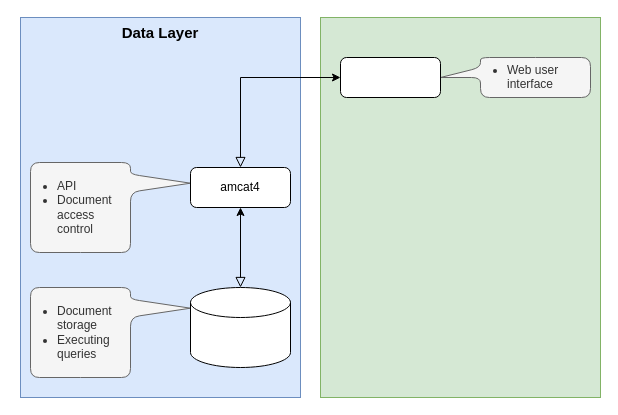
Image size: 618x415. Some labels were removed from this diagram. Here are the shapes that lost their labels. From the top down, the box of each, then its label:
(340, 56, 440, 98): amcat4client
(320, 16, 600, 398): Frontend
(190, 286, 290, 368): Elasticsearch DB
